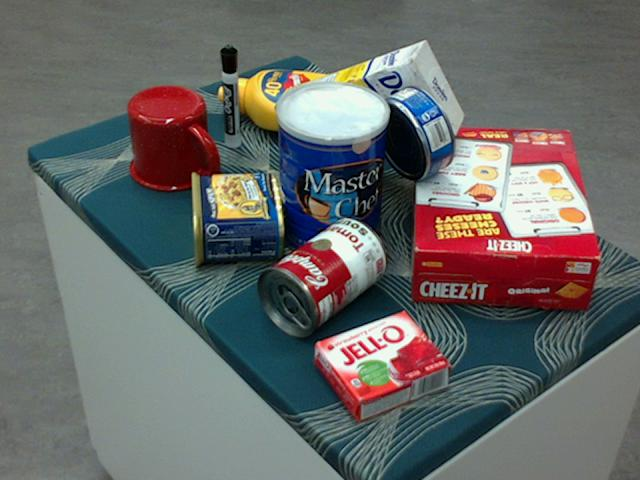cracker_box: (408, 125, 598, 308)
gelatin_box: (314, 310, 450, 420)
large_marker: (219, 44, 242, 148)
master_chef_can: (275, 82, 388, 264)
mug: (127, 85, 216, 191)
mustard_bottle: (217, 68, 385, 140)
potted_meat_can: (188, 171, 283, 266)
sugar_box: (271, 41, 463, 174)
tomato_soup_can: (254, 217, 386, 335)
tuna_fish_can: (373, 83, 455, 178)
